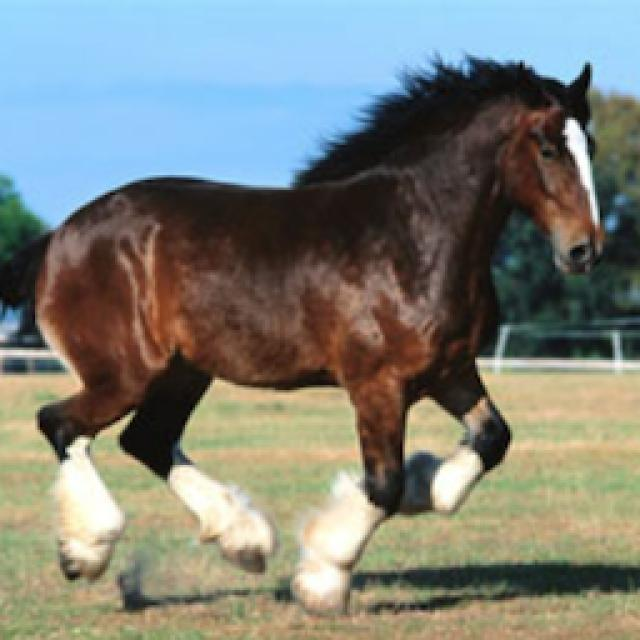Horse: (0, 47, 612, 620)
